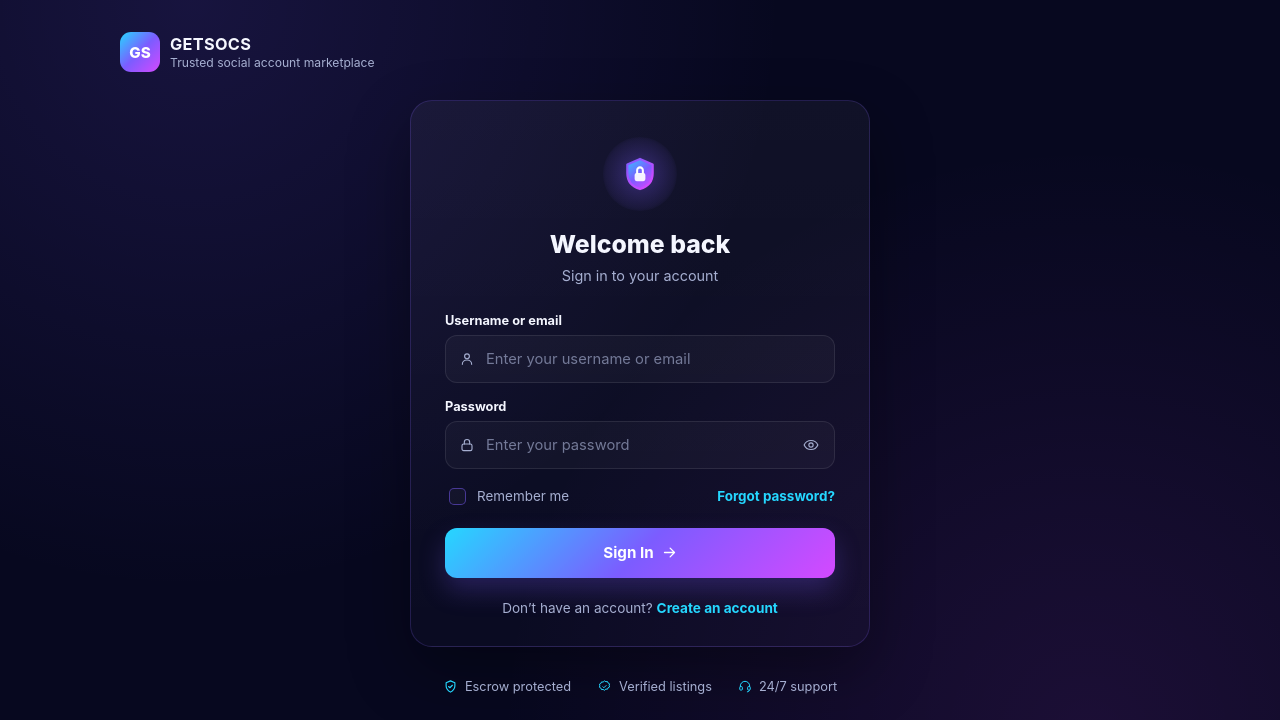
Test: Redesigned auth pages — render + core interactions › Login: an unverified-account error from the backend shows the verify-code card instead of a generic error
Type "unverified" into the field with placeholder "Enter your username or email".
click(640, 359); type("unverified")  # box [445, 335, 835, 383]
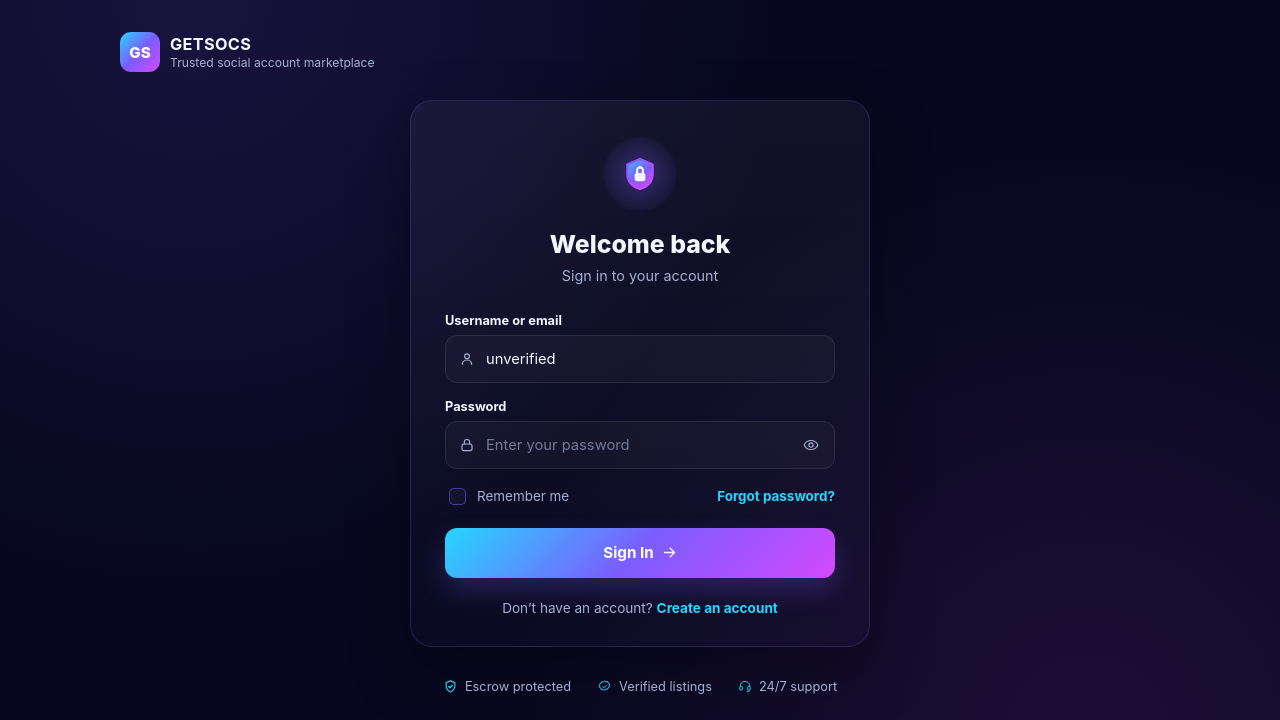
Type "whatever" into the password field with placeholder "Enter your password".
click(640, 445); type("whatever")  # box [445, 421, 835, 469]
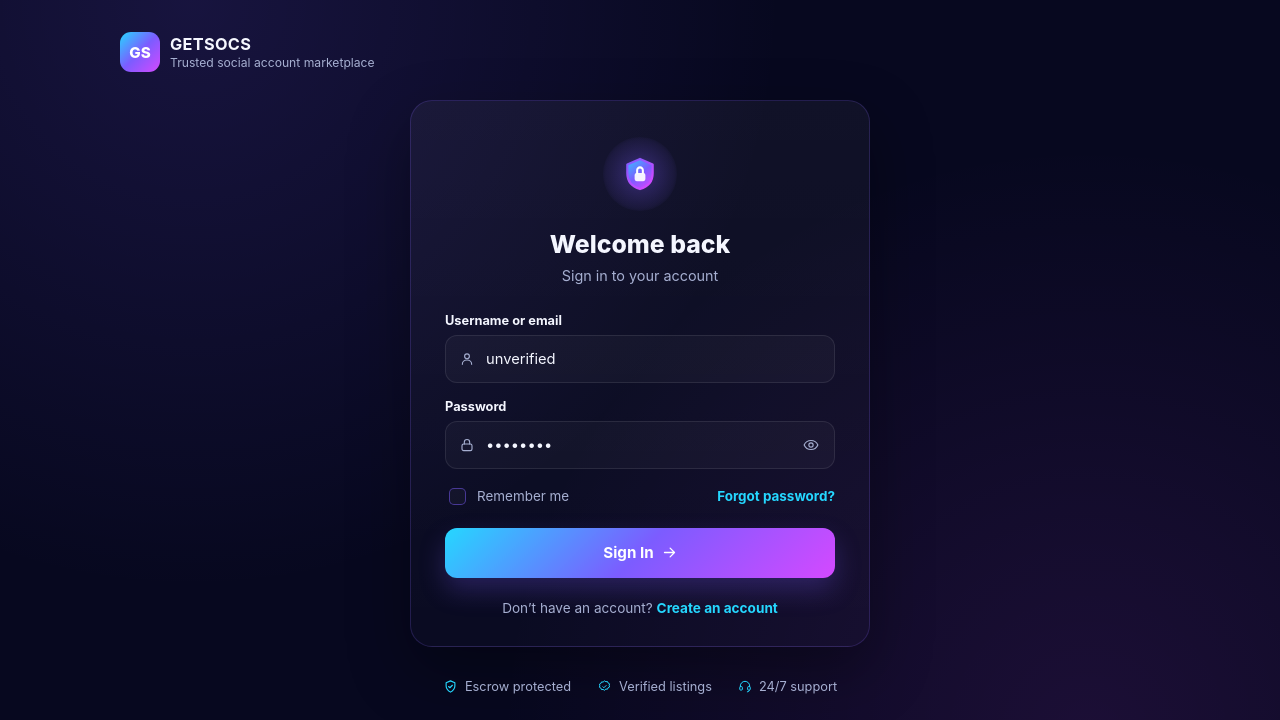
Click the button "Sign In".
click(640, 553)  # box [445, 528, 835, 578]
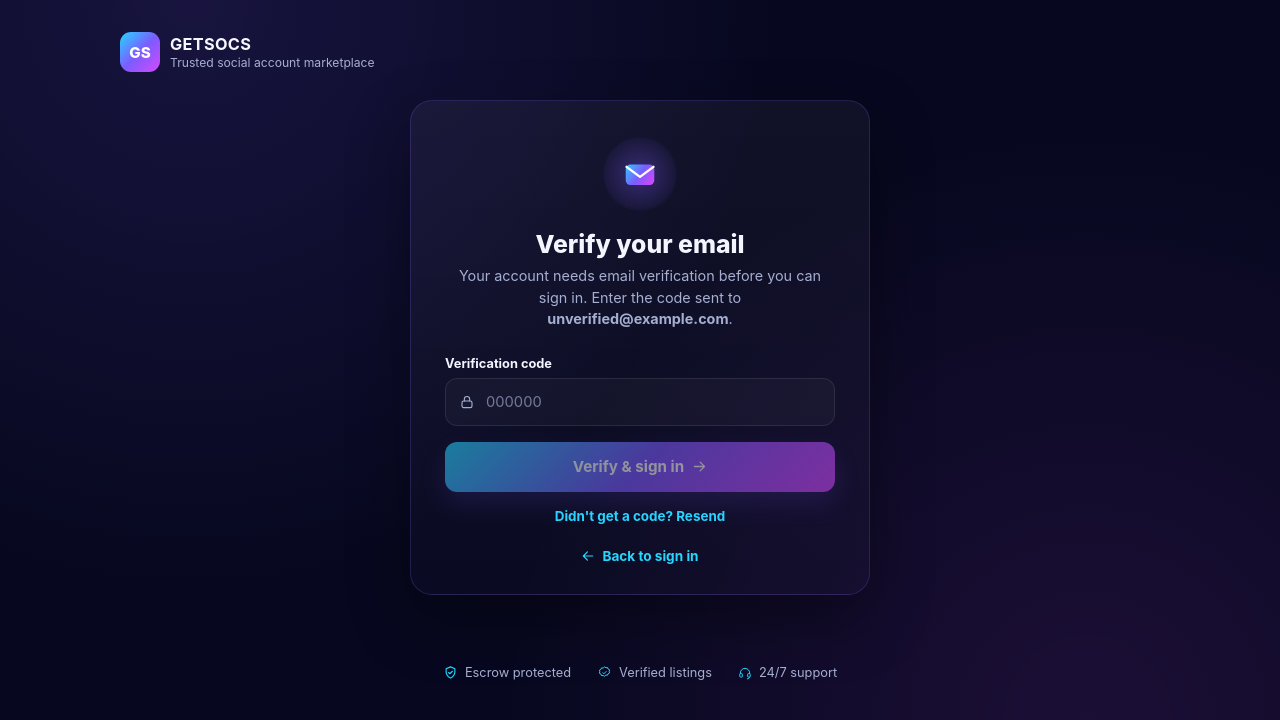
expect the heading "Verify your email" is shown: met, box [535, 229, 744, 259]
expect the text "unverified@example.com" is shown: met, box [547, 310, 729, 327]
